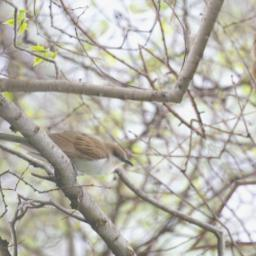Cuckoo: (0, 76, 135, 220)
